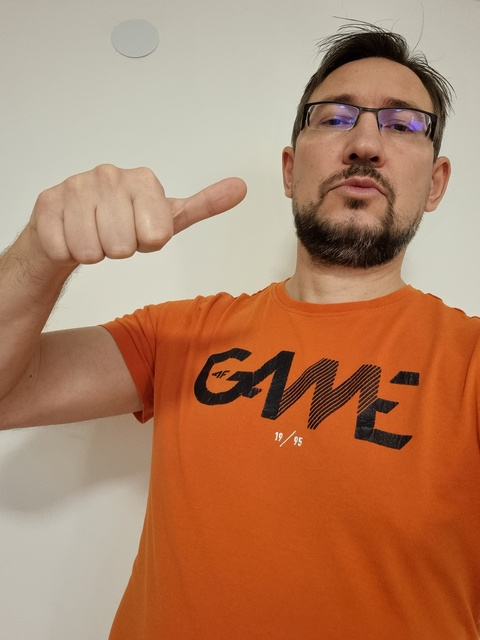GestBack: (37, 164, 246, 264)
